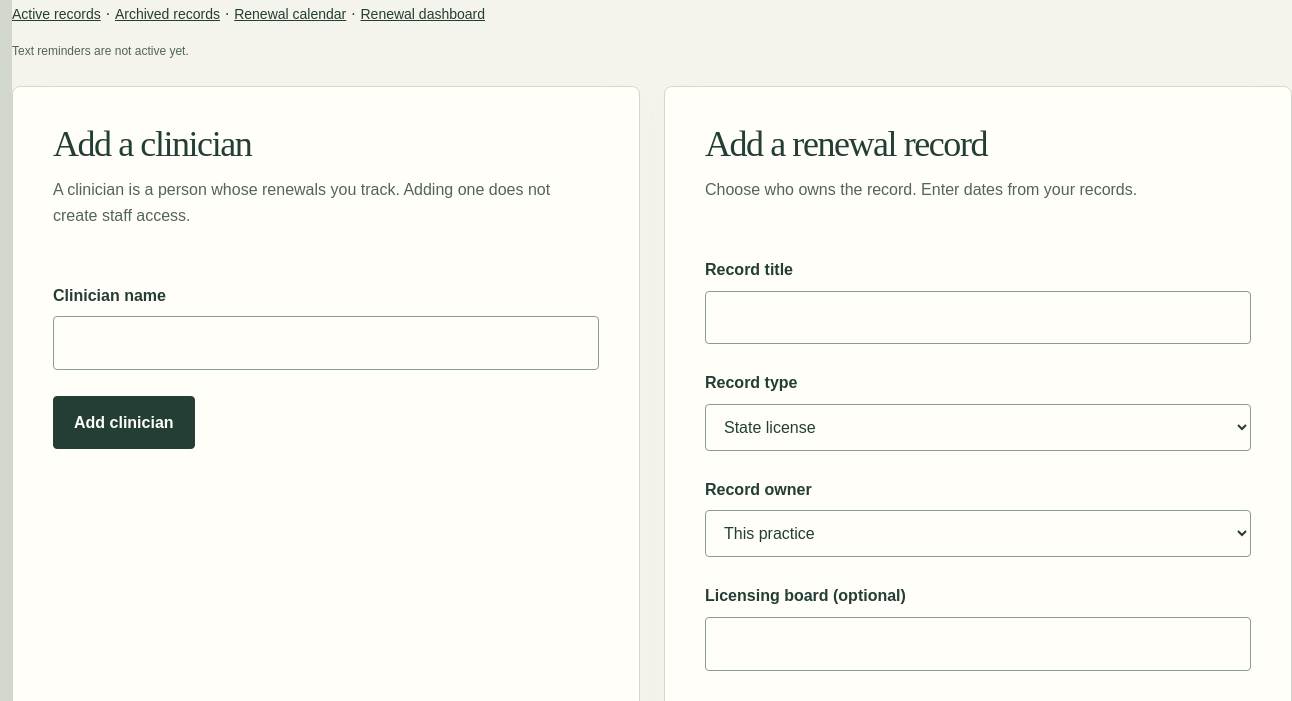
Test: A02 markup names are text and missing clinician choices explain the next action
Select "A clinician" in the dropdown labelled "Record owner" at [978, 534], box x1=705 y1=510 x2=1251 y2=557
(page scrolled)
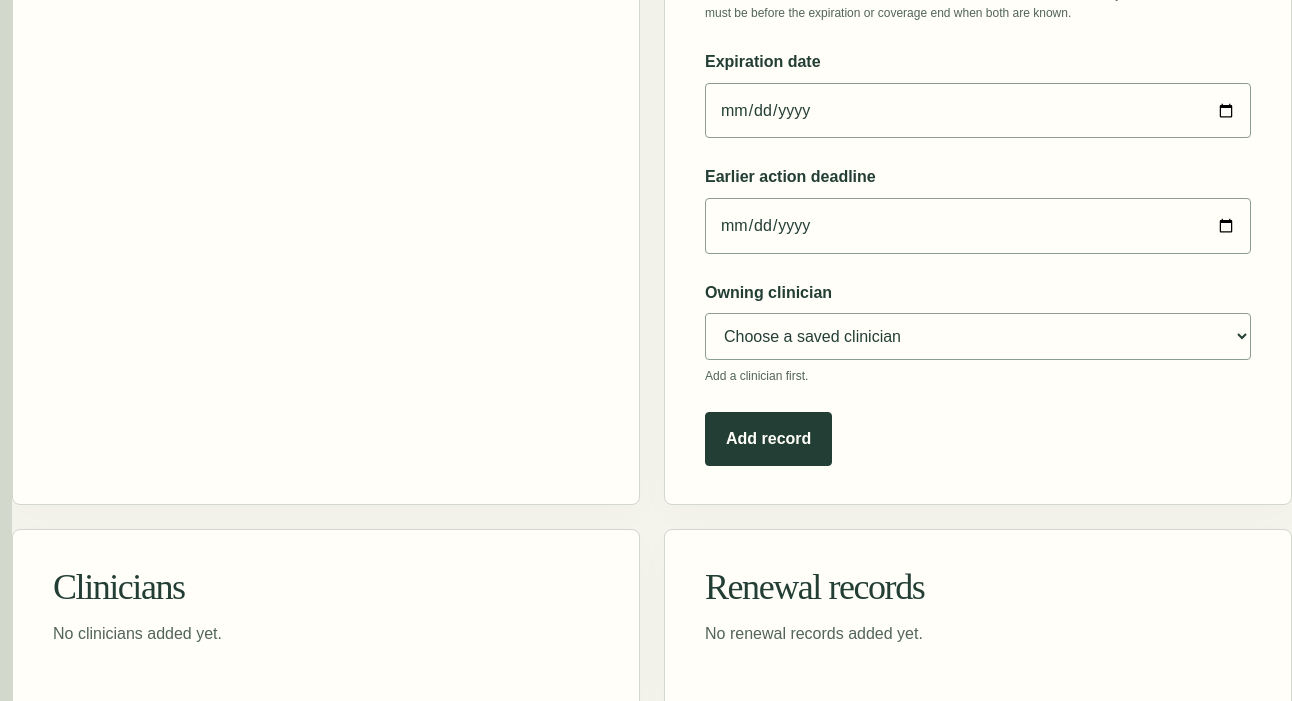
expect the text "Add a clinician first." is shown: met, box x1=705 y1=369 x2=808 y2=383
